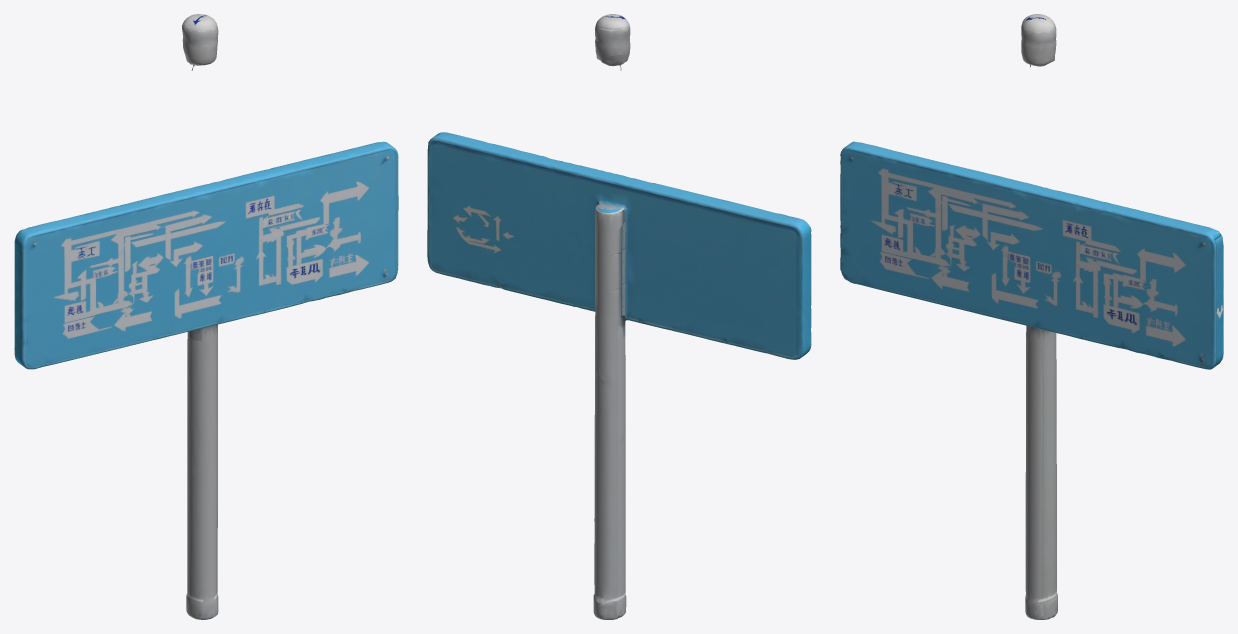
File: road_sign.glb
The picture shows the model from 3 angles, left to right: view 1: azimuth 30°, elevation 25°; view 2: azimuth 150°, elevation 25°; view 3: azimuth 330°, elevation 25°; orthographic projection.
Bounding box in the file's own units: 1.33 × 2.01 × 0.1263.
1 material, 1 textured.
